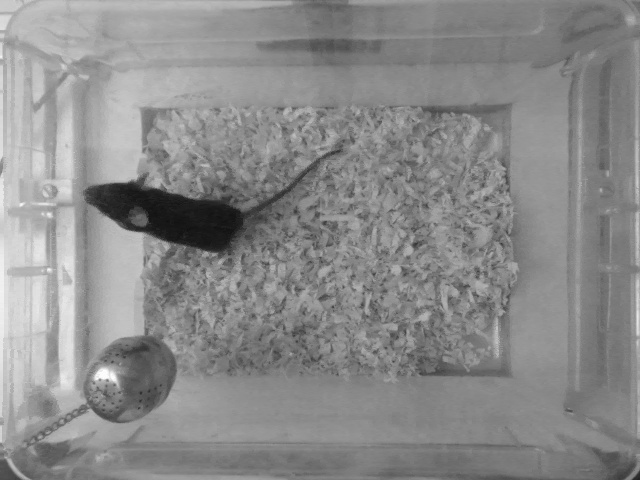mice: (87, 142, 342, 258)
